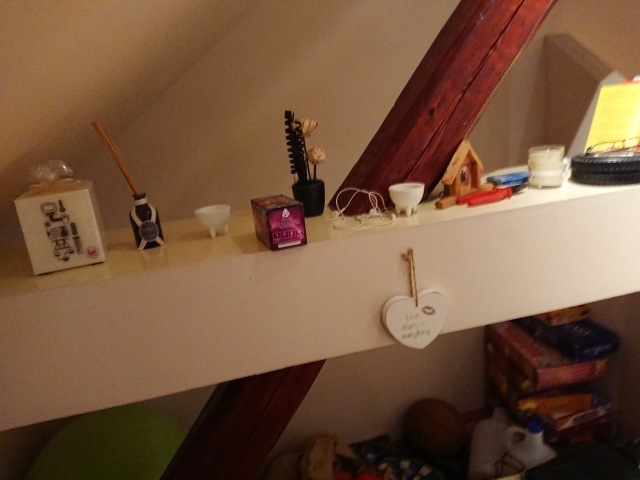Franck Black Currant Tea 60g: (248, 192, 309, 254)
